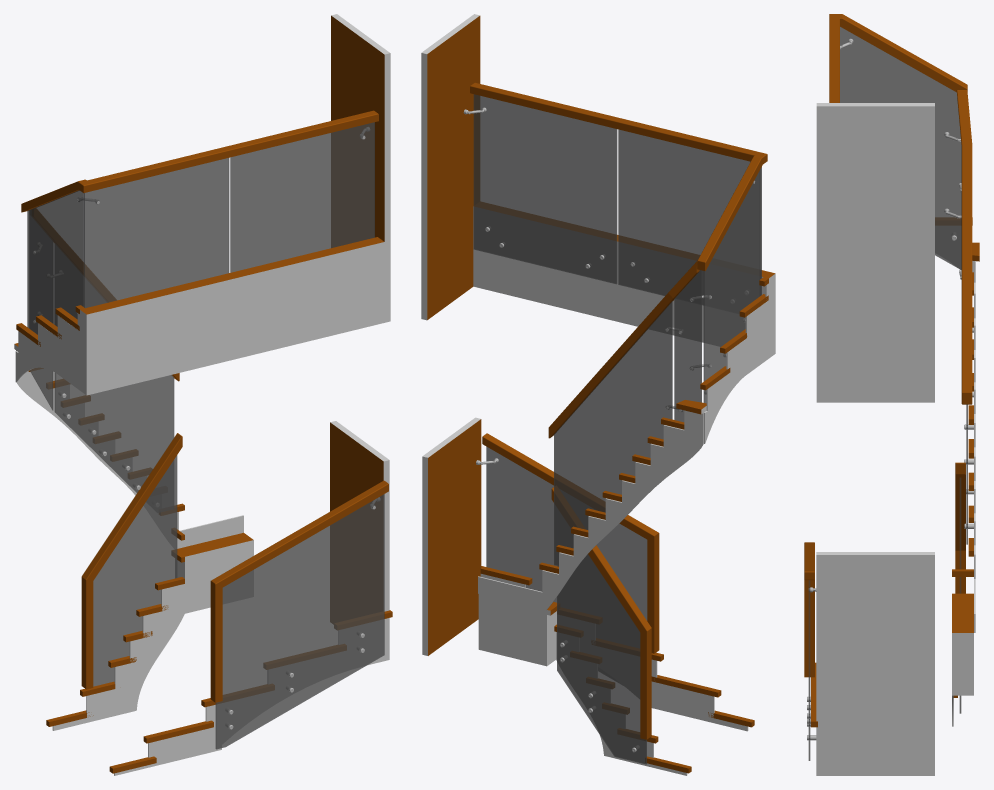
Rendered from 3D Сборка 1.obj.
3 renders of one model, left to right at view 1: azimuth 30°, elevation 25°; view 2: azimuth 150°, elevation 25°; view 3: azimuth 270°, elevation 25°, orthographic. The views are drawn at different scales.
Bounding box in the file's own units: 2.54 × 5.25 × 1.15.
